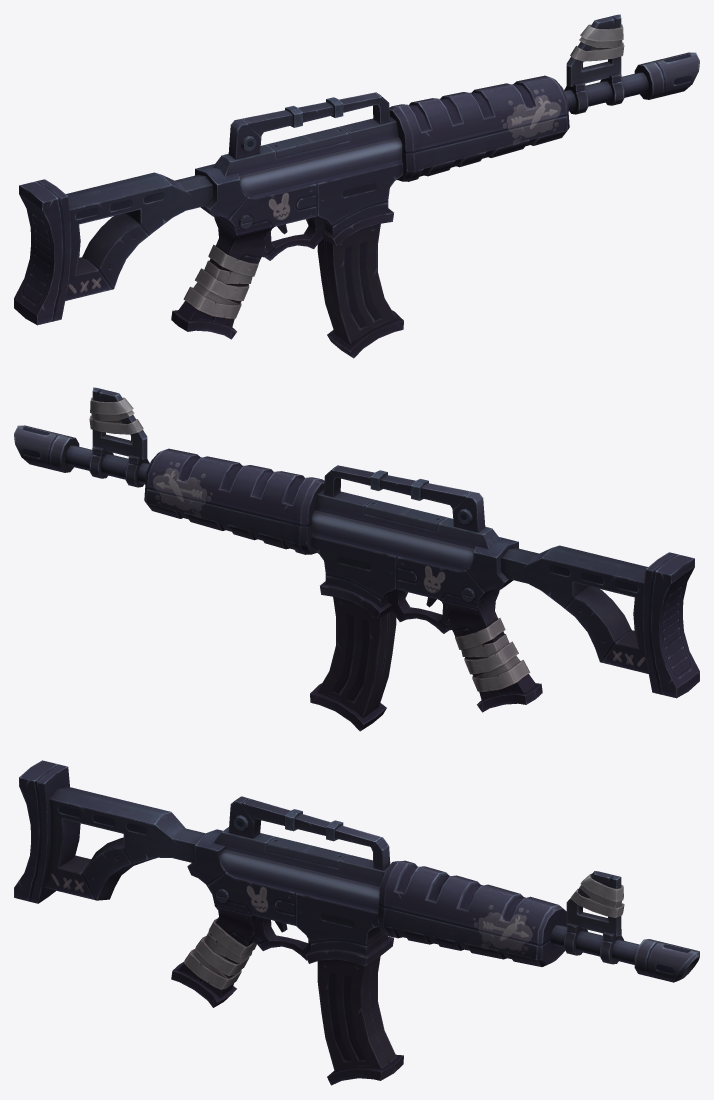
The model's file is Assault_Rifle_M4.fbx.
The picture shows the model from 3 angles, top to bottom: view 1: azimuth 30°, elevation 25°; view 2: azimuth 150°, elevation 25°; view 3: azimuth 330°, elevation 25°; orthographic projection.
Visible parts, largest first — view 1: Assault_Rifle; view 2: Assault_Rifle; view 3: Assault_Rifle.
Part boxes in pixels (x1,y1,x2,y2): Assault_Rifle: (14, 14, 699, 358); Assault_Rifle: (14, 387, 699, 731); Assault_Rifle: (14, 760, 699, 1085).
Size of the model in its own units: 3.84 by 1.46 by 0.3156.
